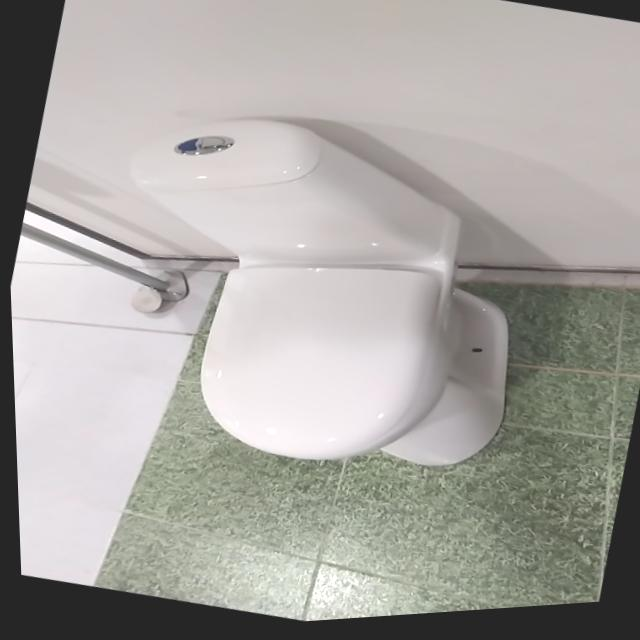toilet: (67, 78, 561, 518)
